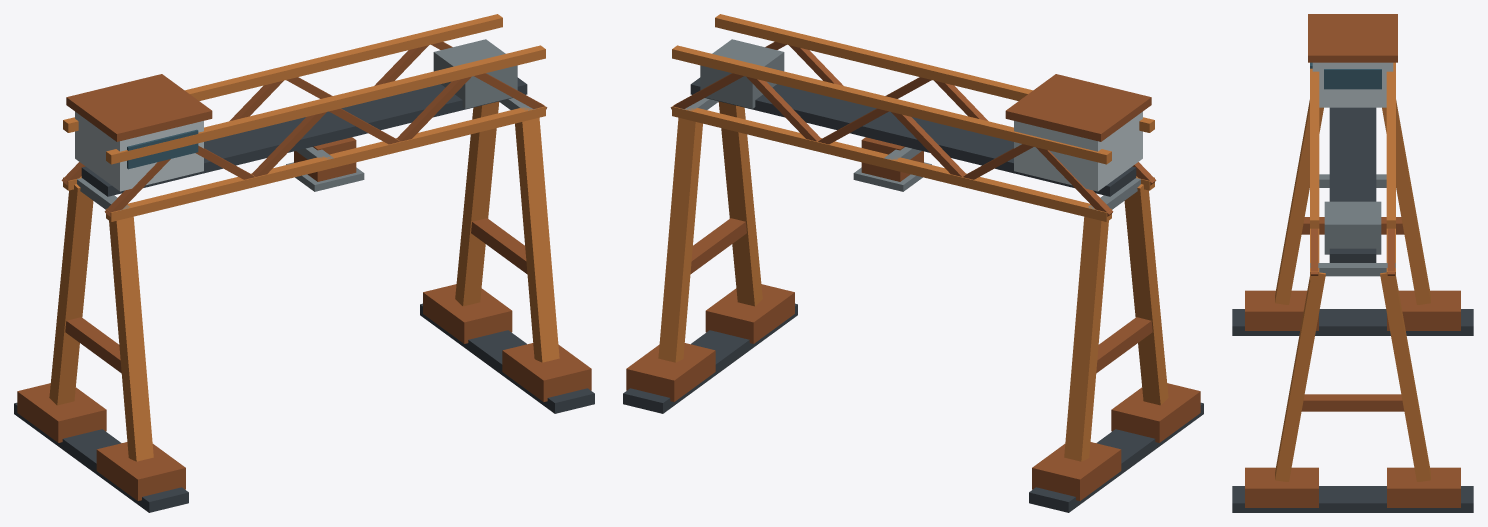
The model's file is stacker-reclaimer.glb.
3 renders of one model, left to right at view 1: azimuth 30°, elevation 25°; view 2: azimuth 150°, elevation 25°; view 3: azimuth 270°, elevation 25°, orthographic. The views are drawn at different scales.
Visible parts, largest first — view 1: StackerReclaimer; view 2: StackerReclaimer; view 3: StackerReclaimer.
Boxes of the visible parts, box(x1,y1,x2,y2) form: StackerReclaimer: box(14, 14, 594, 512); StackerReclaimer: box(623, 14, 1203, 512); StackerReclaimer: box(1232, 14, 1473, 512).
Bounding box in the file's own units: 6.6 × 4.84 × 3.4.
